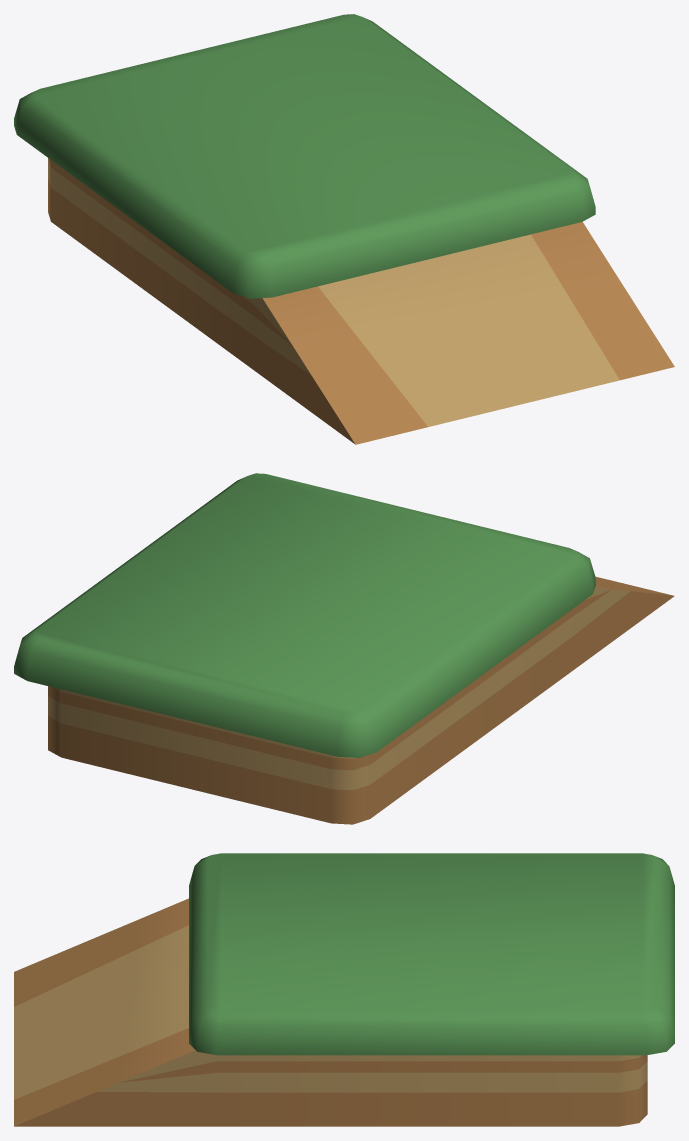
The model's file is Platform_1.fbx.
The picture shows the model from 3 angles, top to bottom: view 1: azimuth 30°, elevation 25°; view 2: azimuth 150°, elevation 25°; view 3: azimuth 270°, elevation 25°; orthographic projection.
Parts seen in each view (by area): view 1: Platform_1; view 2: Platform_1; view 3: Platform_1.
Part boxes in pixels (<box>): Platform_1: <box>14,14,674,444</box>; Platform_1: <box>14,473,674,824</box>; Platform_1: <box>14,853,674,1126</box>.
Size of the model in its own units: 879 by 274 by 1409.
